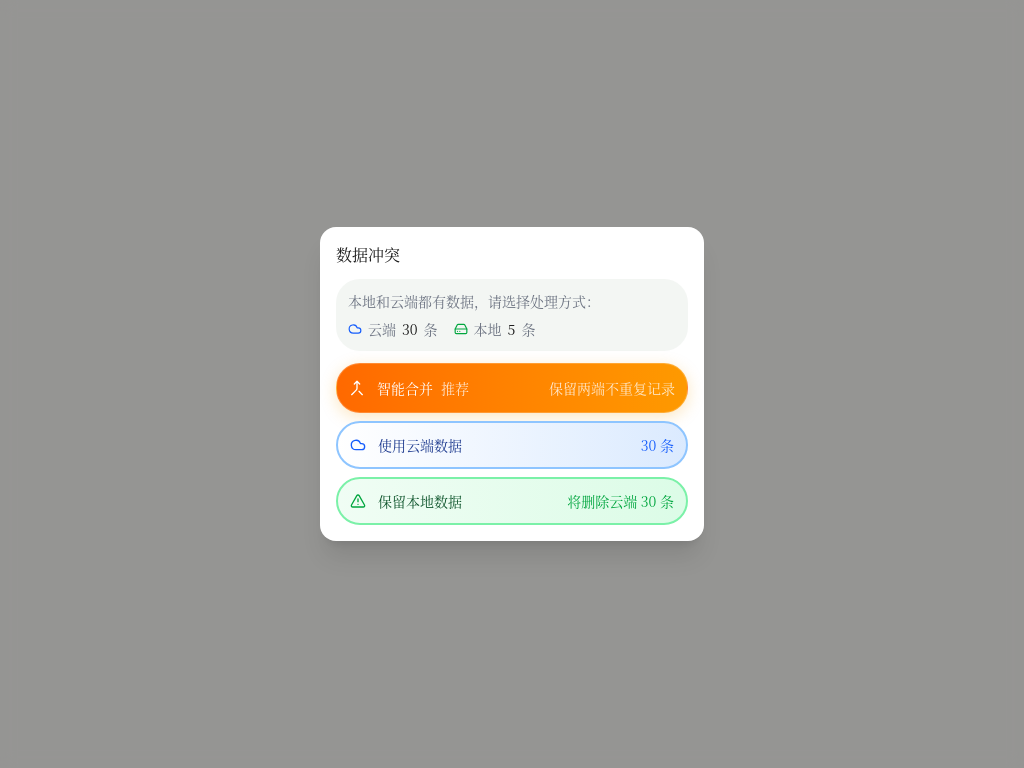
Test: DataConflictModal › 云端远多于本地时保留本地需要二次确认
Later steps or results of the test are not shown.
Click the text "保留本地数据".
click(420, 501)  # box top-left (378, 491), bottom-right (462, 511)
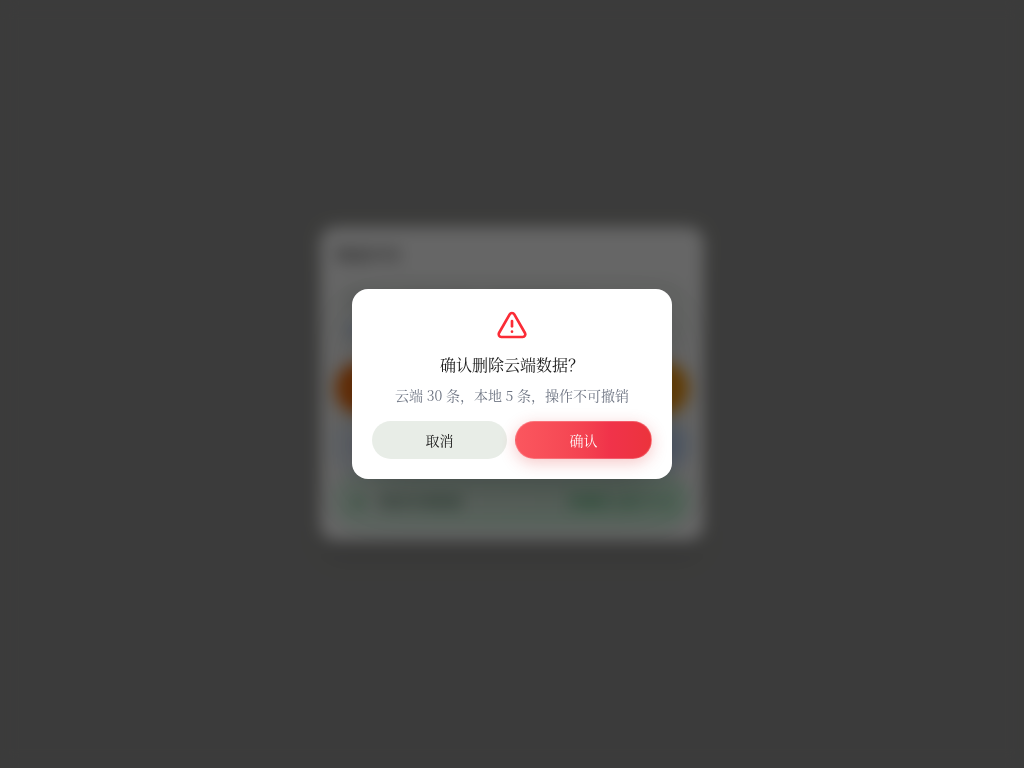
Now the heading "确认删除云端数据？" is shown, box top-left (440, 353), bottom-right (584, 376)
